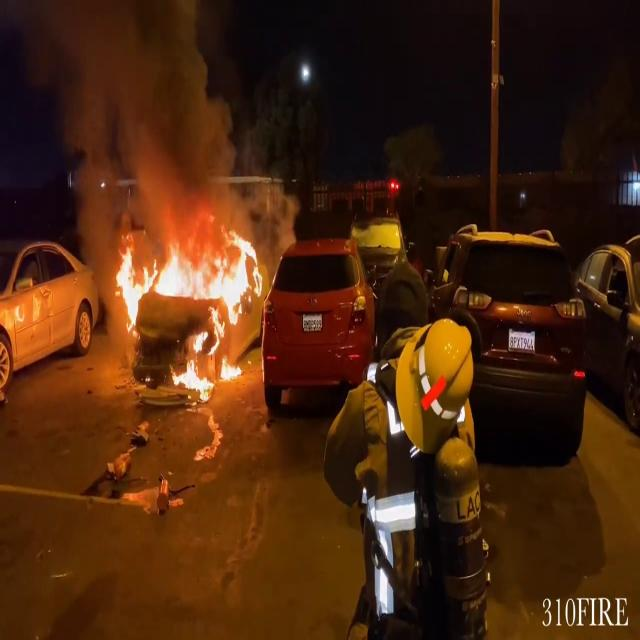Fire: (110, 226, 262, 385)
Smoke: (26, 1, 254, 227)
